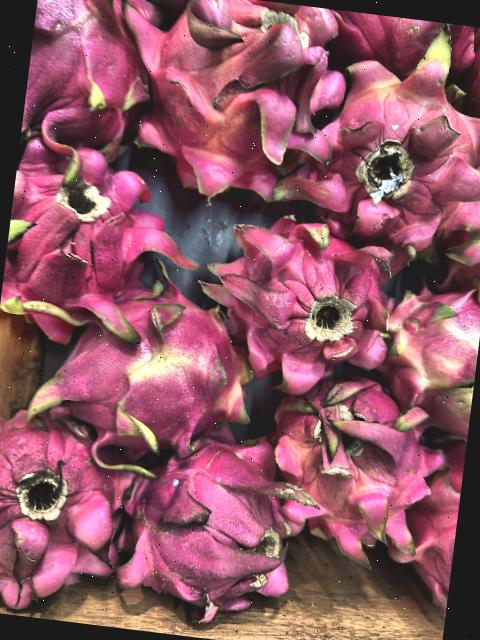buah-naga-belum-matang: (39, 272, 260, 449), (258, 360, 448, 562), (379, 274, 480, 448)
buah-naga-matang: (0, 125, 208, 350), (114, 0, 329, 197), (111, 412, 312, 612), (301, 34, 480, 257), (200, 199, 401, 377), (0, 392, 136, 610), (20, 0, 155, 157), (410, 440, 466, 599)
